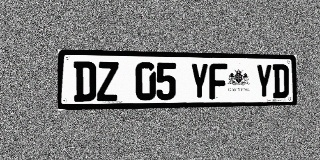0: (135, 62, 156, 101)
5: (156, 62, 176, 100)
D: (74, 61, 96, 102), (273, 64, 289, 98)
F: (209, 63, 227, 99)
Y: (190, 63, 209, 100), (256, 64, 272, 99)
Z: (97, 62, 118, 101)
